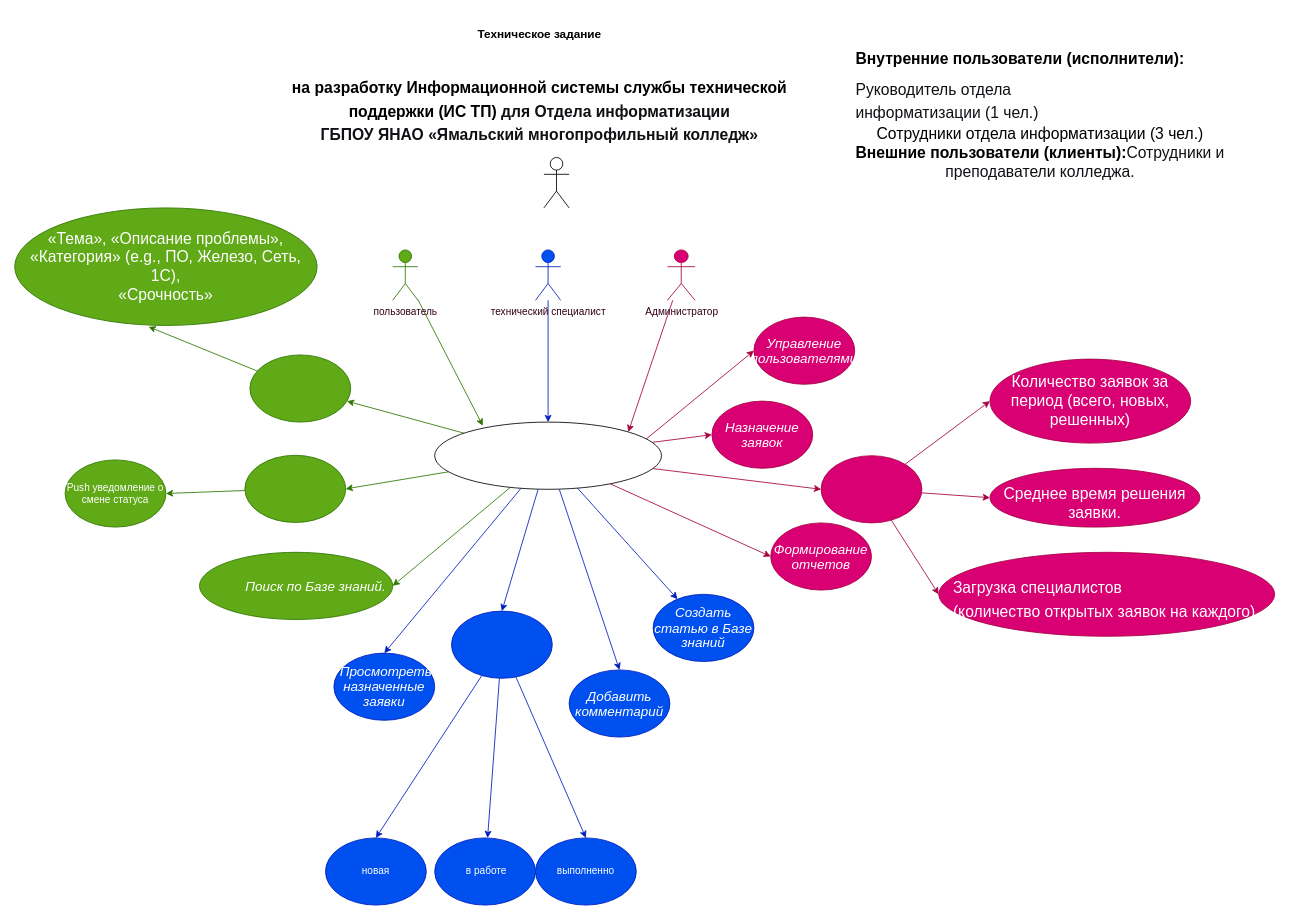
Some shapes in this 1289 by 920 pixel diagram are drawn without their labels. Each missing label, with the centre of its shape:
"вход в систему" goes at (x=548, y=455).
"заказчик" goes at (x=556, y=182).
"Изменить статус заявки" goes at (x=501, y=644).
"Просмотр Дашборда" goes at (x=871, y=489).
"Просмотреть статус своих заявок" goes at (x=295, y=488).
"Создать заявку" goes at (x=300, y=388).
